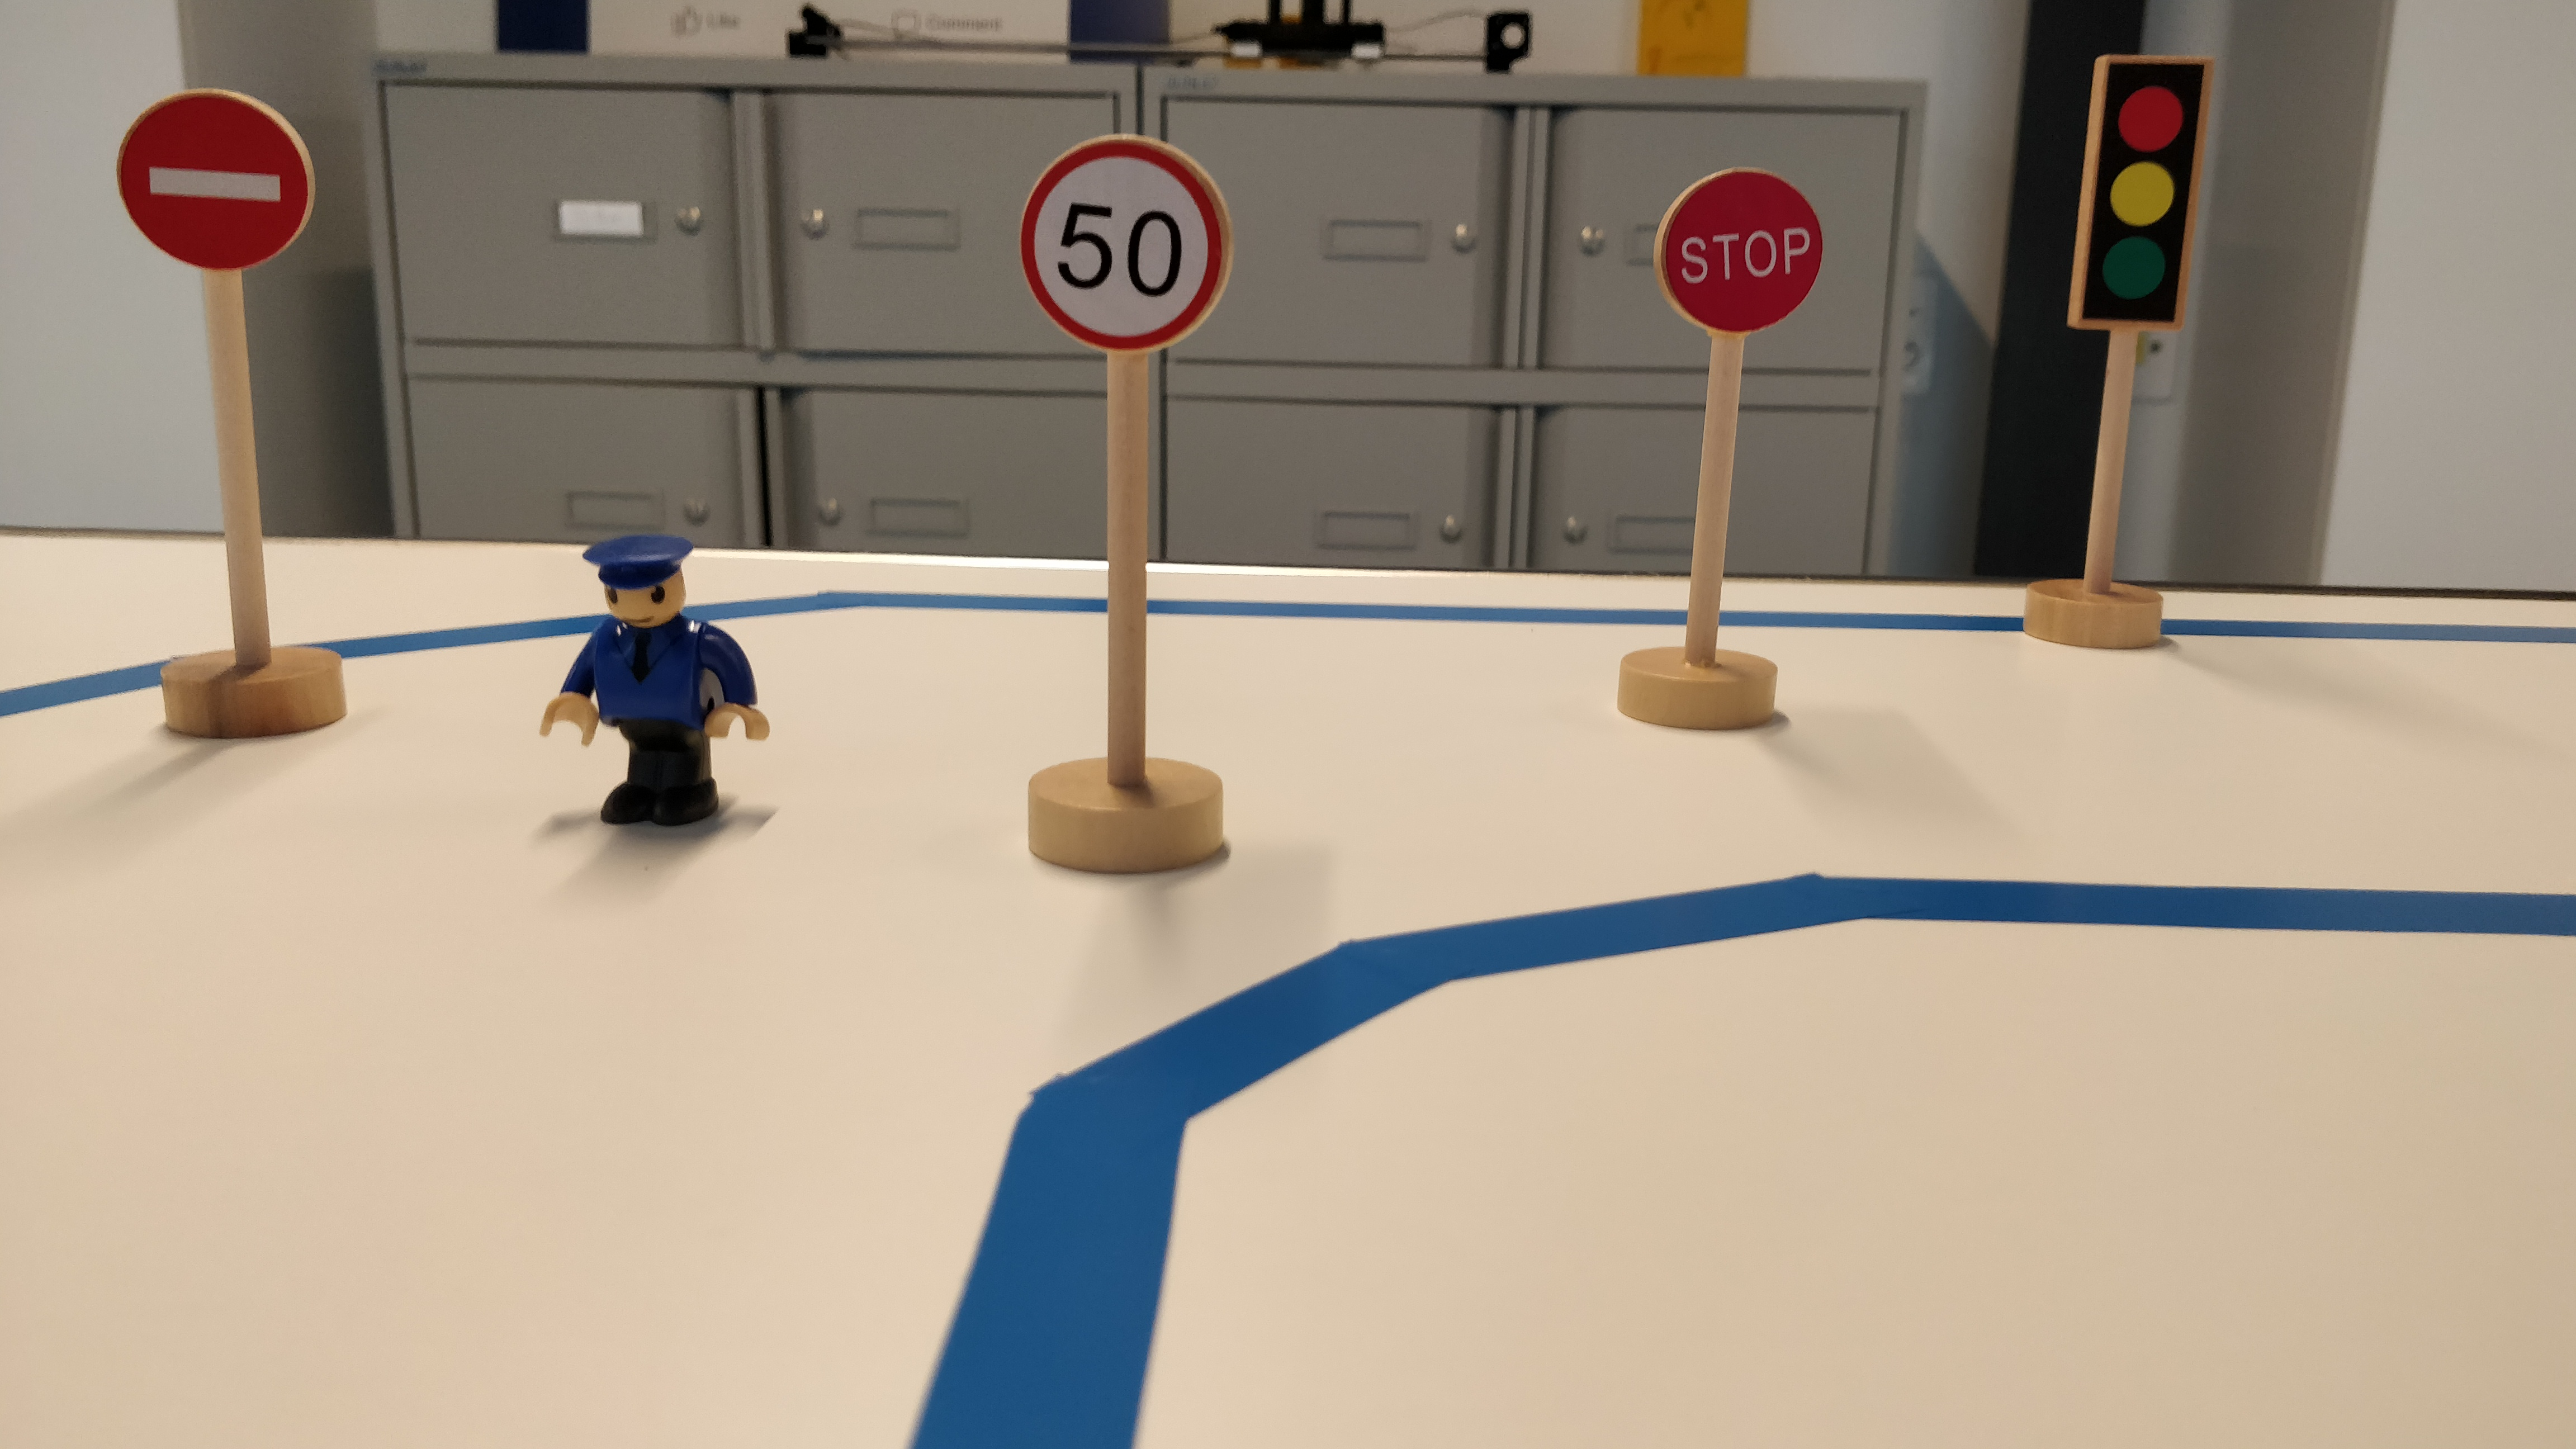Person: (537, 532, 779, 832)
Prohibition Sign: (112, 82, 320, 277)
Speed Limit 50: (1012, 130, 1240, 360)
Stop Sign: (1650, 168, 1828, 337)
Traffic Light: (2061, 49, 2215, 334)
